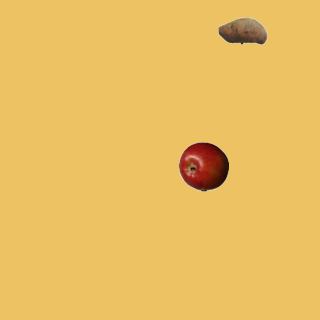Apple Braeburn: (178, 141, 228, 191)
Potato Sweet: (217, 5, 267, 55)
